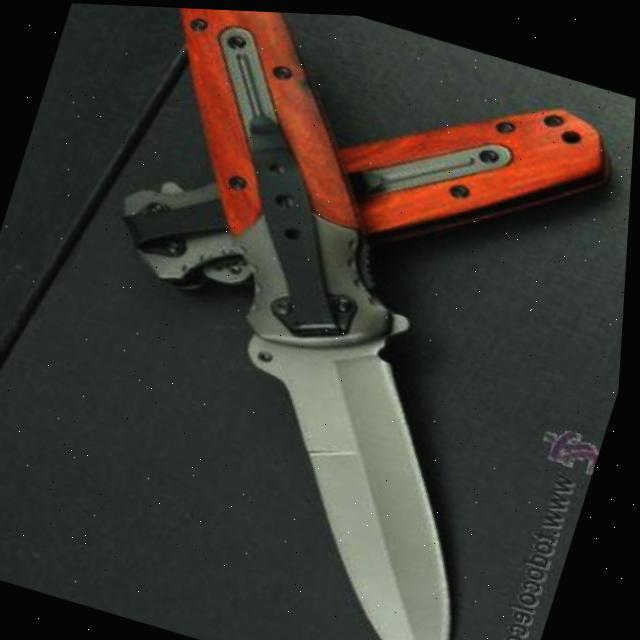knife: (0, 1, 628, 640), (104, 4, 630, 392)
